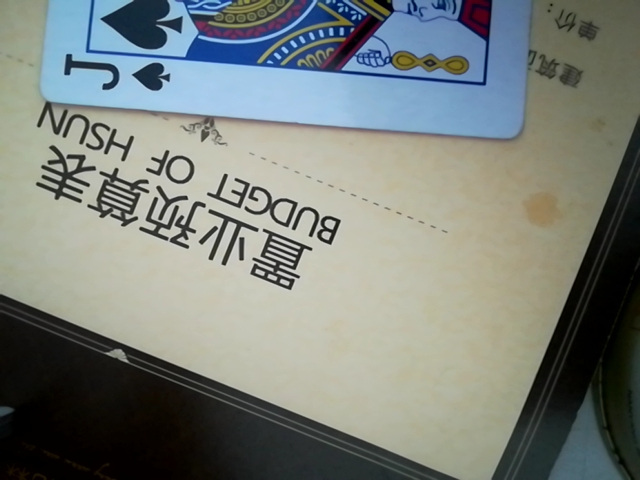ht j: (39, 0, 534, 136)
